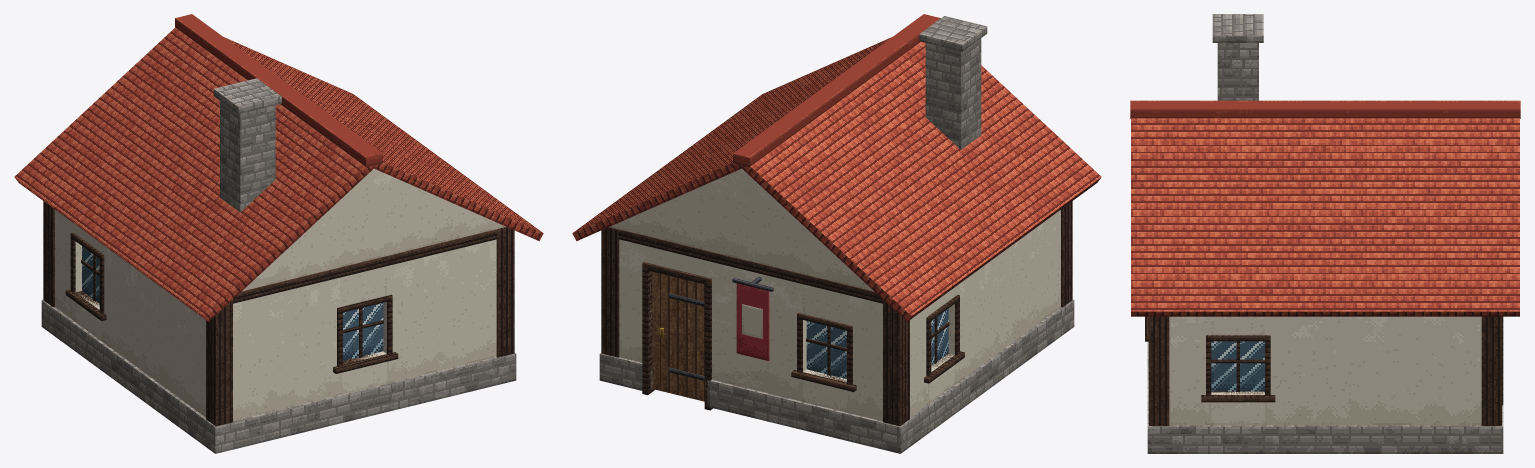
Rendered from grocery.glb.
3 views of the same model, side by side, from view 1: azimuth 30°, elevation 25°; view 2: azimuth 150°, elevation 25°; view 3: azimuth 270°, elevation 25° (orthographic). The views are drawn at different scales.
Visible parts, largest first — view 1: grocery; view 2: grocery; view 3: grocery.
Boxes of the visible parts, <box> form: grocery: <box>14,14,543,453</box>; grocery: <box>572,14,1101,453</box>; grocery: <box>1130,14,1520,453</box>.
Size of the model in its own units: 5.98 by 5.27 by 5.82.
8 materials, 8 textured.
